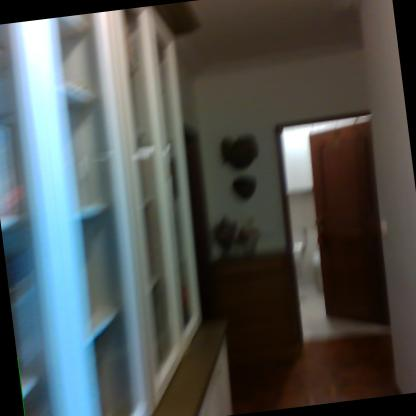semi: (265, 102, 410, 346)
